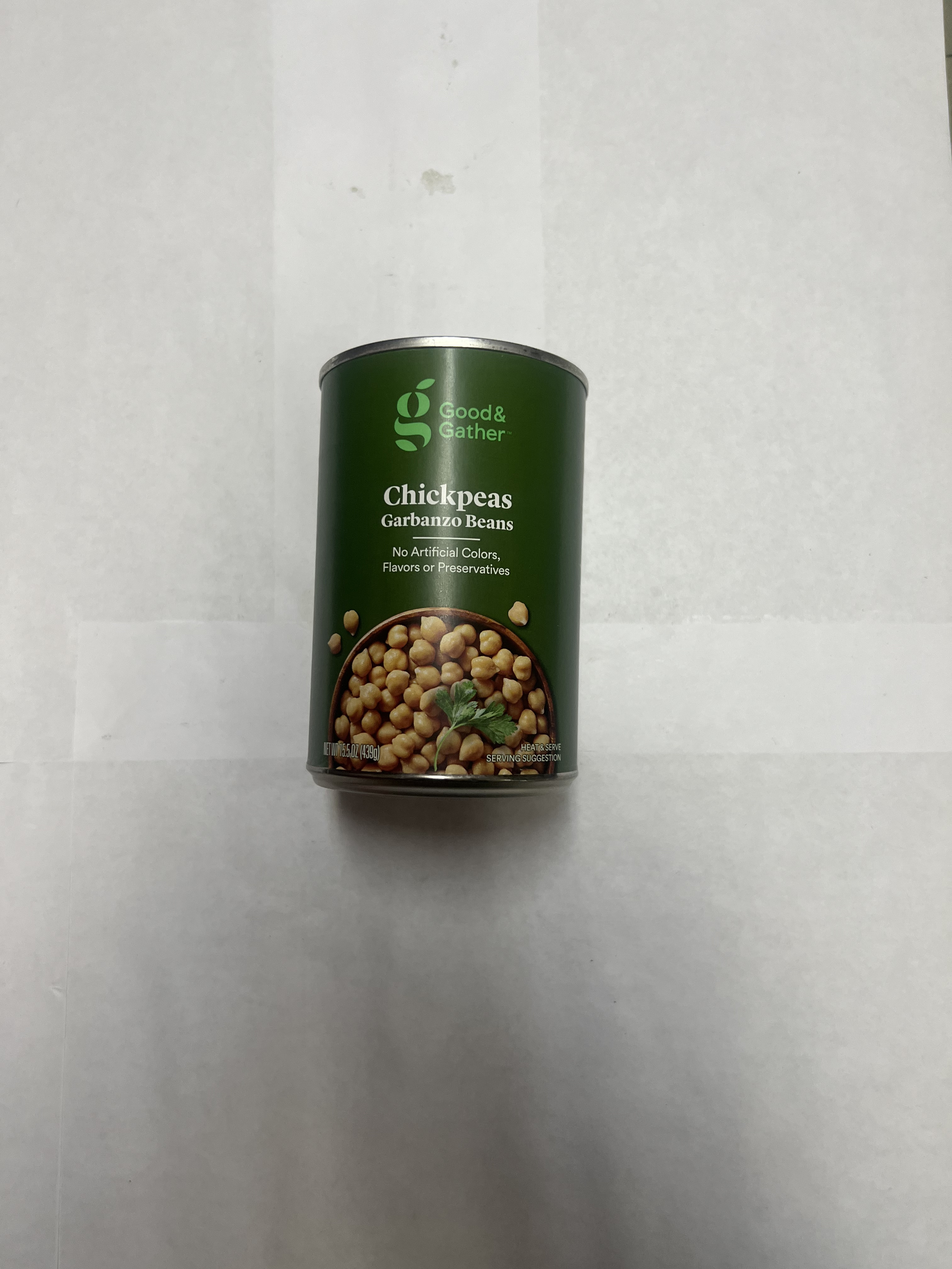packaged: (309, 333, 592, 797)
